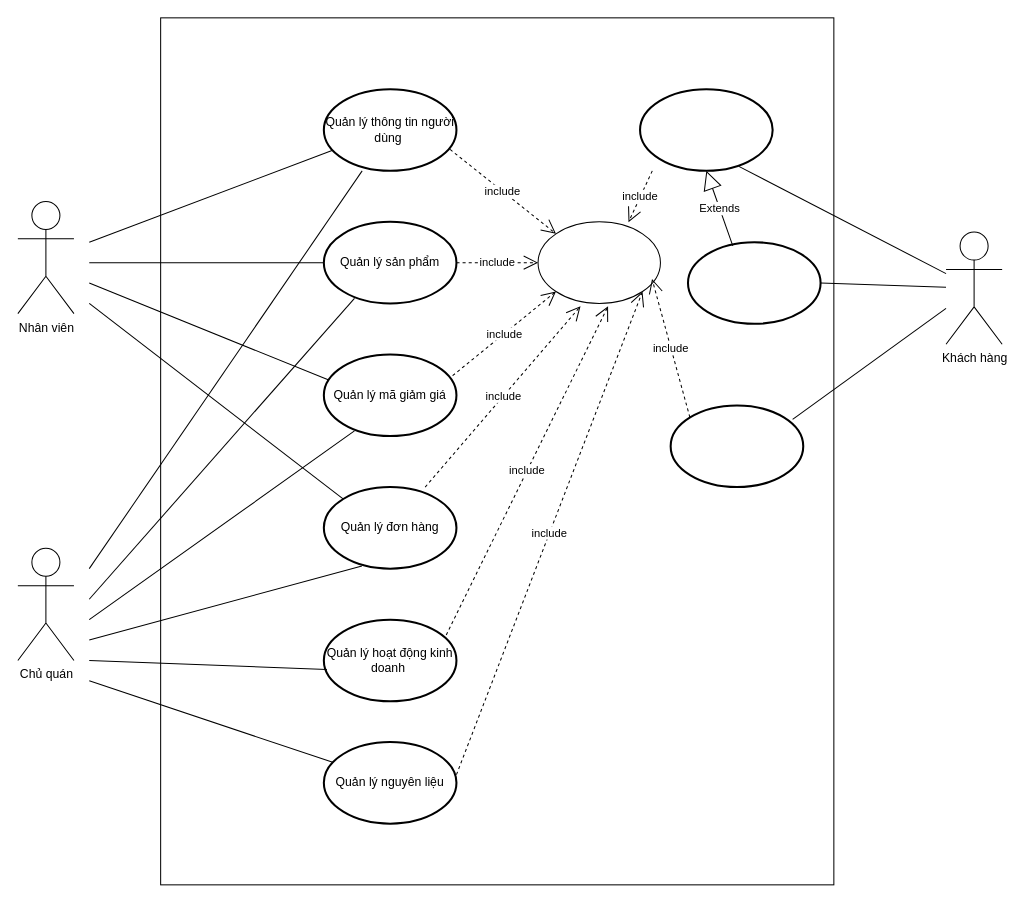
Some shapes in this 1024 by 903 pixel diagram are drawn without their labels. The centre of each missing label's shape, as x and y in pixels:
"Quản lý thông tin cá nhân" belongs at [736,446].
"Tìm kiếm sản phẩm" belongs at [753,282].
"Tạo đơn hàng" belongs at [706,129].
"Đăng nhập" belongs at [598,262].
